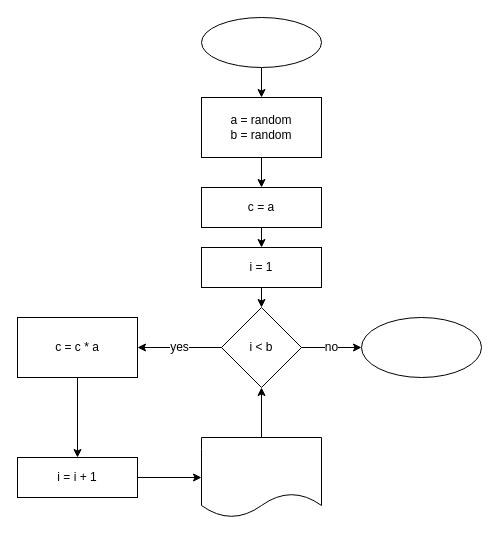
The diagram is 499 pixels wide and 535 high, and some of its shapes have lost their labels. The centre of each missing label's shape, as x and y in pixels:
a, b, c: the point at 261,477
START: the point at 261,42
STOP: the point at 421,347
